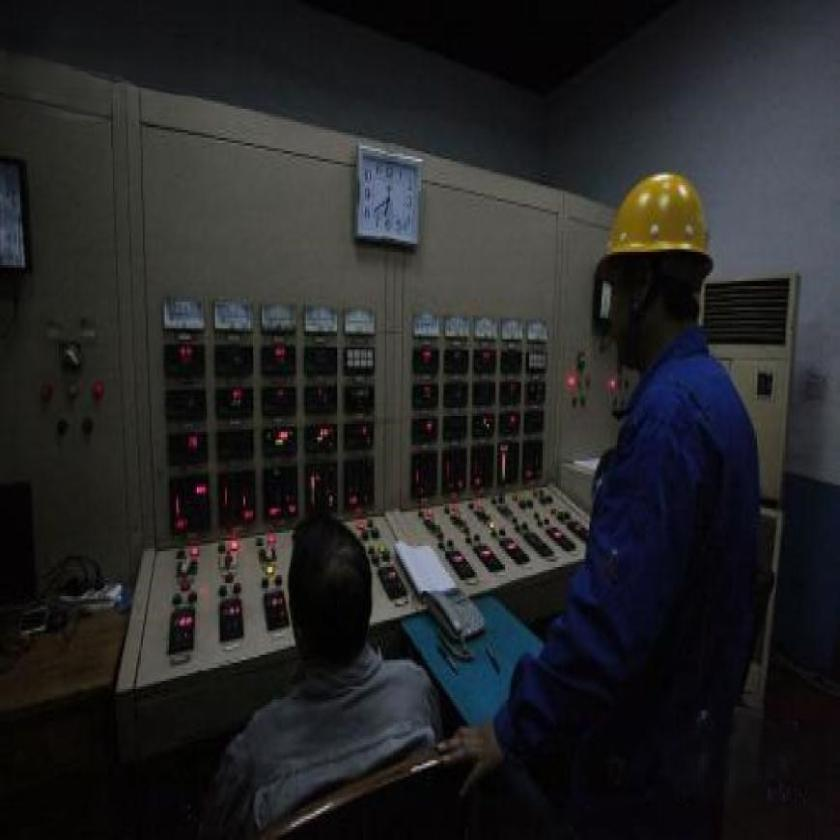Con_casco: (574, 165, 722, 368)
